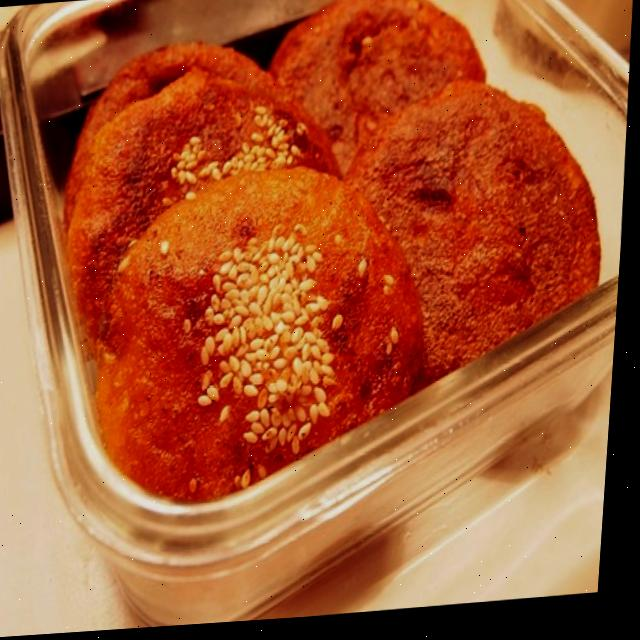炸货点心: (2, 0, 628, 534)
蛋糕甜品: (2, 0, 628, 534)
